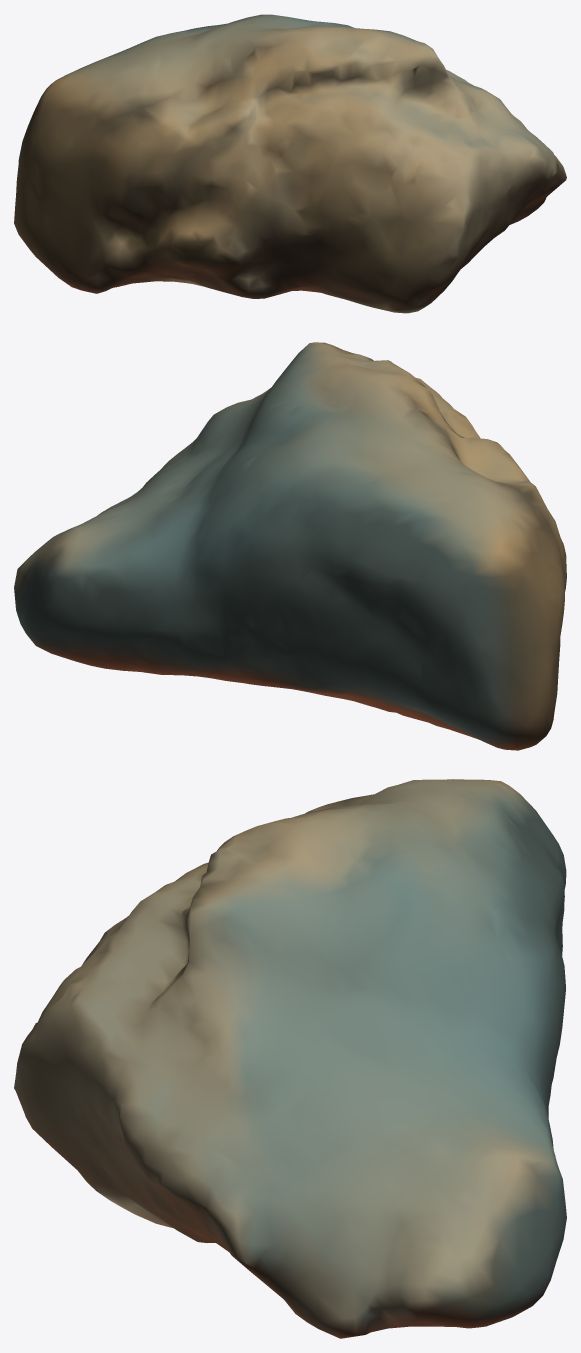
The model's file is rock51_low.fbx.
3 renders of one model, top to bottom at view 1: azimuth 30°, elevation 25°; view 2: azimuth 150°, elevation 25°; view 3: azimuth 270°, elevation 25°, orthographic. The views are drawn at different scales.
Visible parts, largest first — view 1: rock51_low; view 2: rock51_low; view 3: rock51_low.
Part boxes in pixels (bbox=[...]): rock51_low: bbox=[14, 14, 566, 313]; rock51_low: bbox=[14, 342, 566, 750]; rock51_low: bbox=[14, 779, 566, 1338].
Bounding box in the file's own units: 1.45 × 0.7078 × 1.
